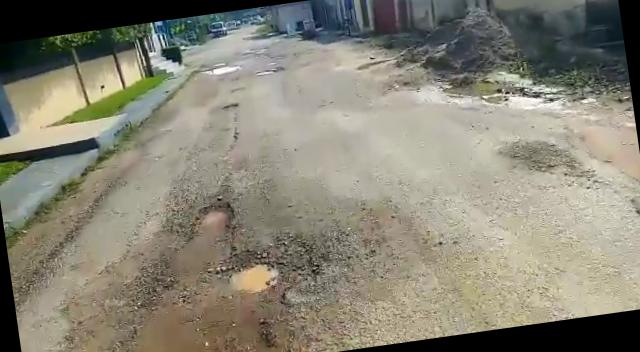pothole: (225, 258, 282, 296), (190, 201, 238, 240), (195, 64, 242, 78)
